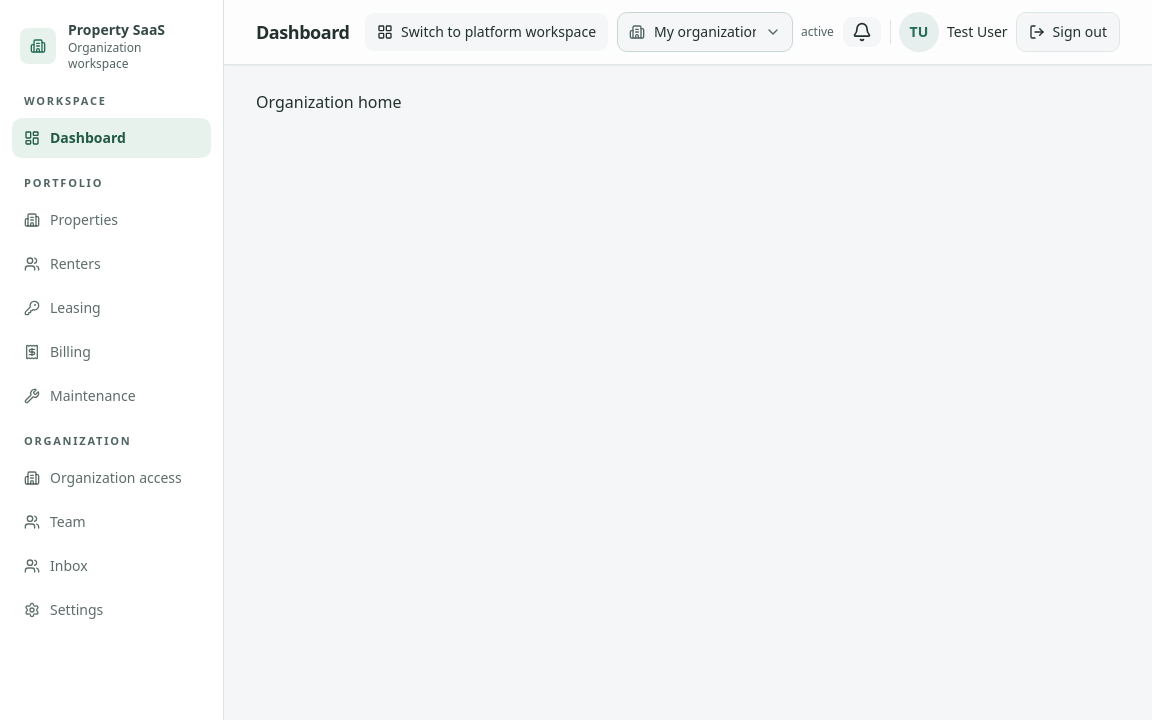
Test case: switches between separate platform and organization navigation
The image size is (1152, 720).
Click the link "Switch to platform workspace": (487, 32) [364,12,609,52]
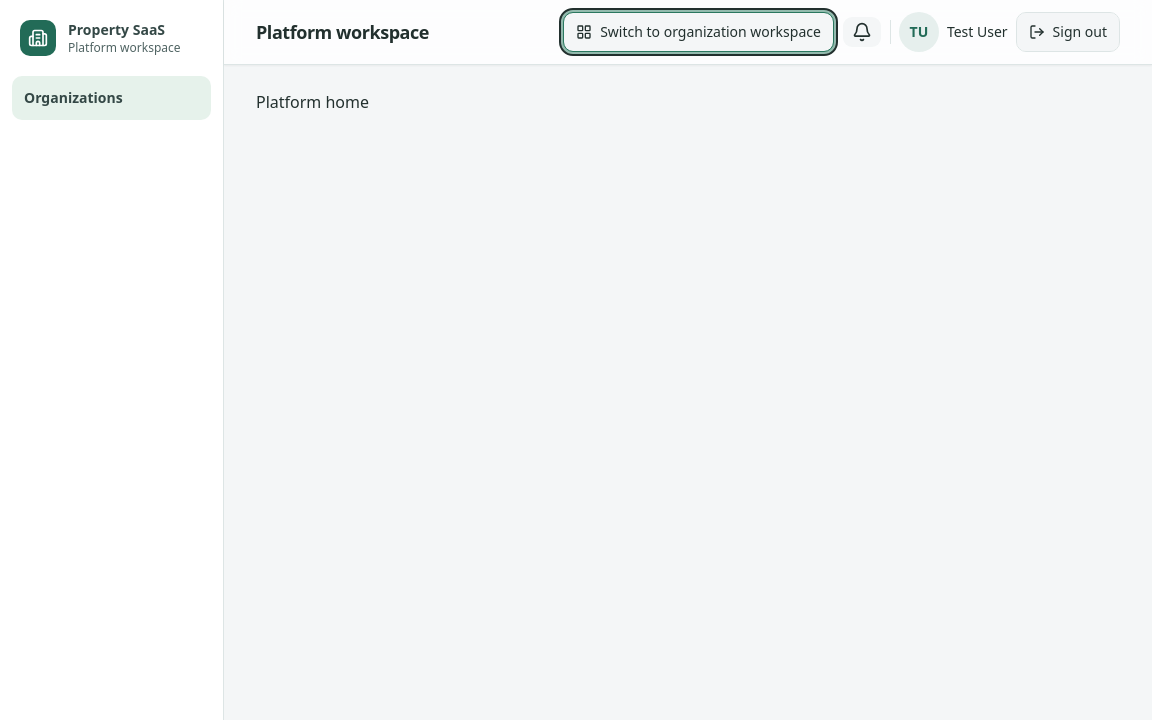
Expected: the text "Platform home" is shown, [256,91,369,113]
Expected: the link "Organizations" is shown, [12,76,211,120]
Expected: the link "Renters" is gone
Click the link "Switch to organization workspace": (698, 32) [563,12,834,52]
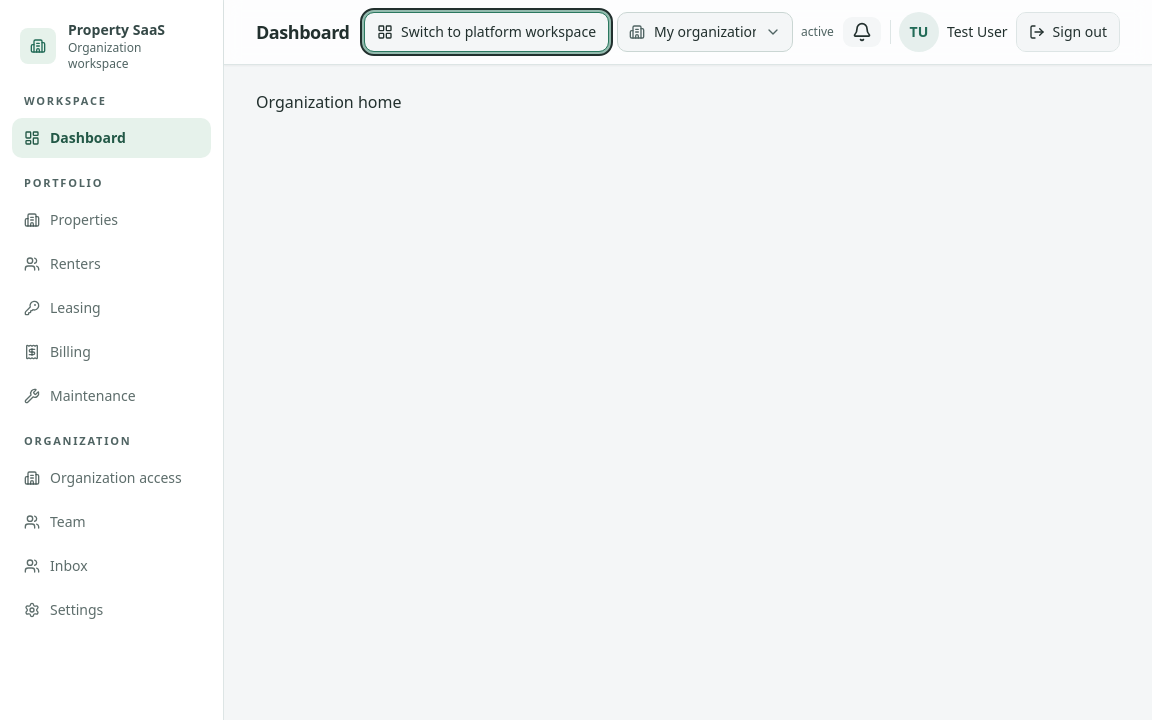
Expected: the text "Organization home" is shown, [256,91,402,113]
Expected: the dropdown named "Organization" is shown, [617,12,793,52]
